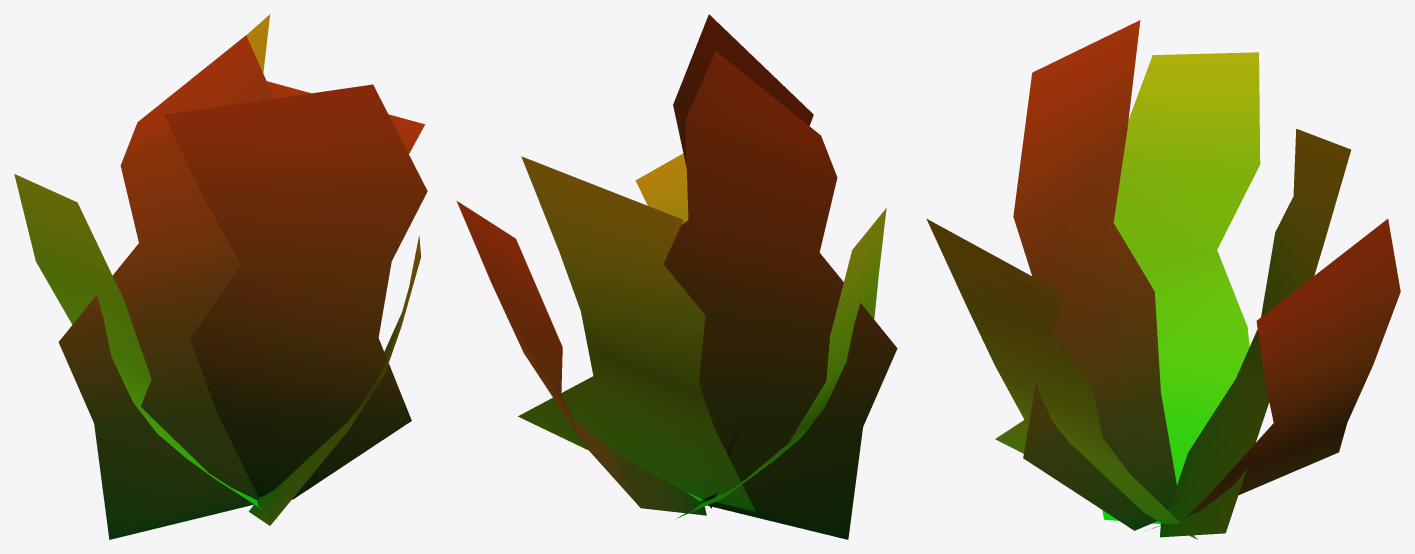
Rendered from Seaweed_LOD0_Var10_sdpjN.fbx.
3 views of the same model, side by side, from view 1: azimuth 30°, elevation 25°; view 2: azimuth 150°, elevation 25°; view 3: azimuth 270°, elevation 25° (orthographic). The views are drawn at different scales.
Visible parts, largest first — view 1: _1f2a_Var10_LOD0; view 2: _1f2a_Var10_LOD0; view 3: _1f2a_Var10_LOD0.
Part boxes in pixels (left/top/right/bottom): _1f2a_Var10_LOD0: left=14, top=14, right=427, bottom=539; _1f2a_Var10_LOD0: left=457, top=14, right=897, bottom=539; _1f2a_Var10_LOD0: left=926, top=20, right=1400, bottom=539.
Size of the model in its own units: 16.93 by 18.55 by 15.74.
